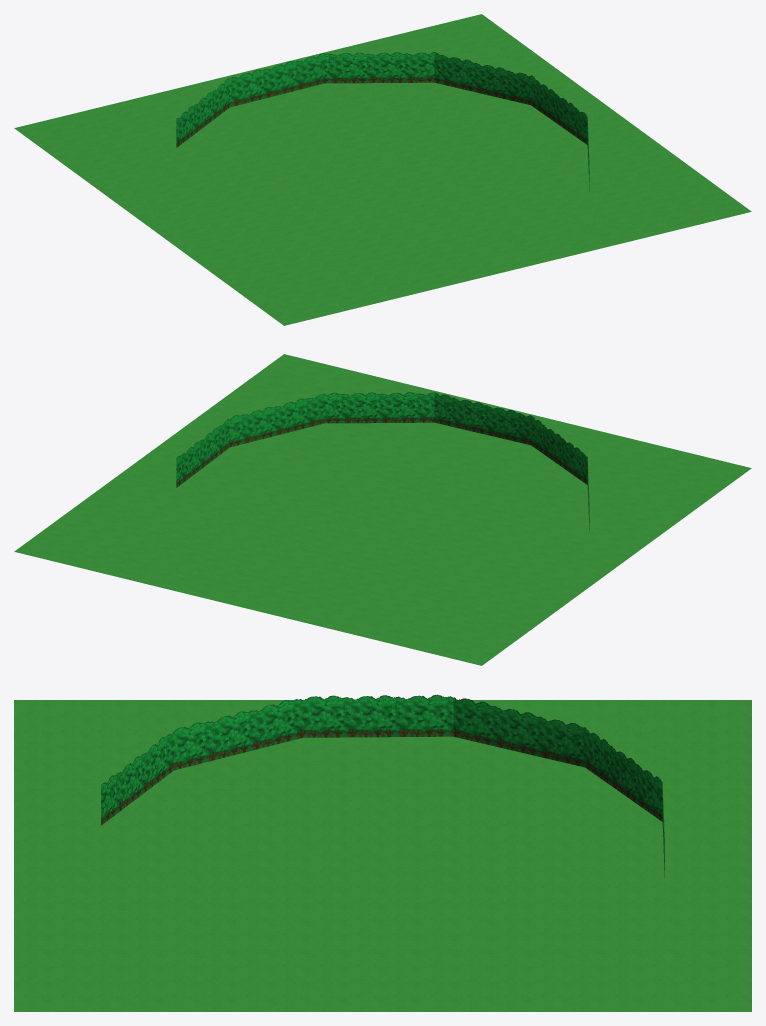
Rendered from travel_ground.glb.
The picture shows the model from 3 angles, top to bottom: view 1: azimuth 30°, elevation 25°; view 2: azimuth 150°, elevation 25°; view 3: azimuth 270°, elevation 25°; orthographic projection. The views are drawn at different scales.
Visible parts, largest first — view 1: o1, o6, o5, o7; view 2: o1, o9, o8, o5; view 3: o1, o4, o7, o8.
Boxes of the visible parts, <box> form: o1: <box>14,14,751,325</box>; o6: <box>230,52,434,107</box>; o5: <box>434,52,587,144</box>; o7: <box>176,78,229,147</box>; o1: <box>14,354,751,665</box>; o9: <box>230,392,434,447</box>; o8: <box>434,392,587,484</box>; o5: <box>176,418,229,487</box>; o1: <box>14,700,751,1011</box>; o4: <box>174,694,453,770</box>; o7: <box>453,697,662,821</box>; o8: <box>101,732,173,825</box>.
Bounding box in the file's own units: 500 × 31.85 × 500.
Materials: 2 (2 with a texture image).
